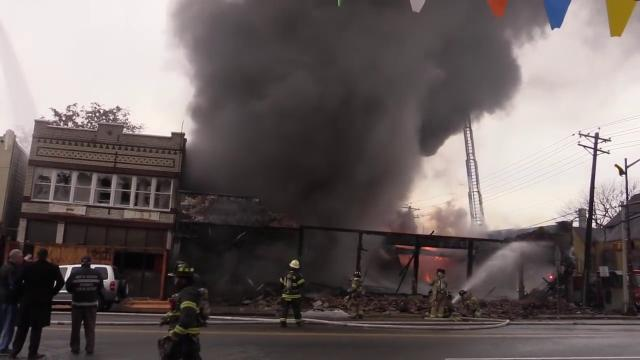fire: (424, 241, 444, 286)
smoke: (162, 0, 560, 295), (574, 1, 640, 69)
